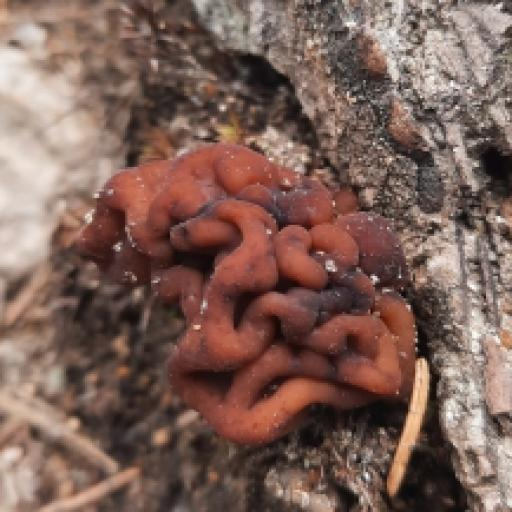mushroom: (60, 95, 447, 480)
